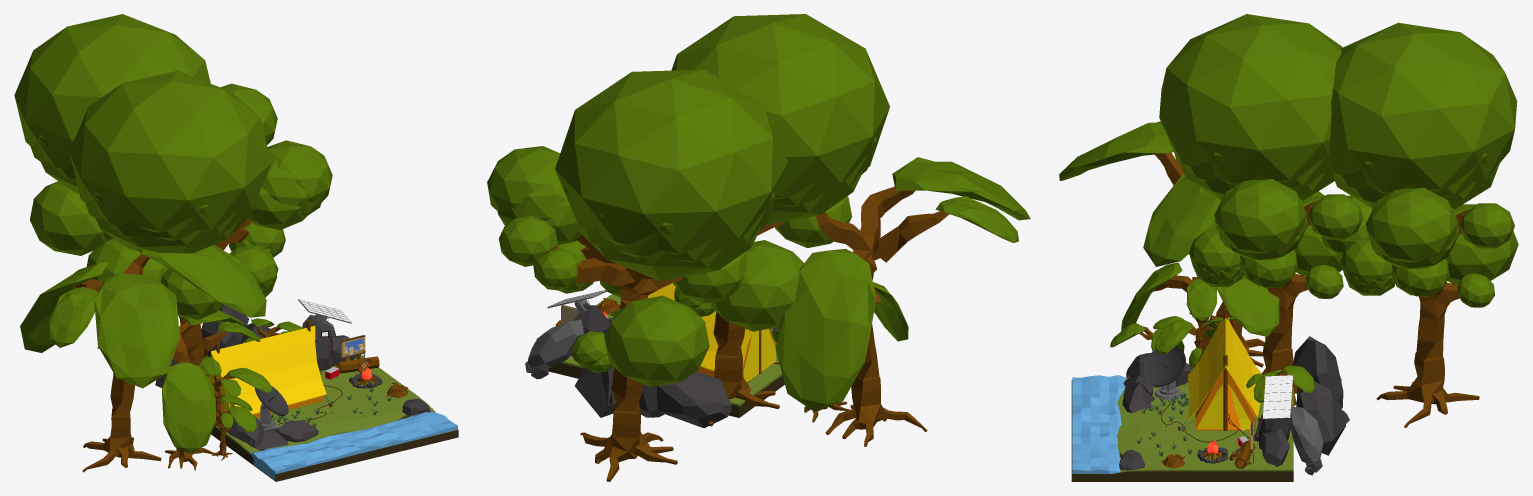
File: camp_export10.glb
3 renders of one model, left to right at view 1: azimuth 30°, elevation 25°; view 2: azimuth 150°, elevation 25°; view 3: azimuth 270°, elevation 25°, orthographic. The views are drawn at different scales.
Visible parts, largest first — view 1: Big tree leaves, Big tree leaves.001, Small Tree 2.003, Small Tree 2.002, Tent-main.001, Rock2.007, Rock2.003, Rock2.005, Rock_1.004, Small Tree 2.001, Small Tree Leaves 1, Rock2.009 (+3 smaller); view 2: Big tree leaves.001, Big tree leaves, Small Tree 2.003, Big Tree.001, Rock2.009, Big Tree, Rock.001, Small Tree 2.002, Tent-main.001, Tent-main.002, Rock2.007, Rock2.001 (+1 smaller); view 3: Big tree leaves.001, Big tree leaves, Small Tree 2.003, Rock2.007, Small Tree 2.002, Rock2.003, Big Tree.001, Rock2.009, Tent-main.001, Big Tree, Rock2.005, Rock_1.004 (+11 smaller).
Part boxes in pixels (x1,y1,x2,y2): Big tree leaves: (69, 71, 332, 319); Big tree leaves.001: (14, 14, 277, 255); Small Tree 2.003: (20, 245, 266, 472); Small Tree 2.002: (97, 310, 260, 470); Tent-main.001: (207, 326, 326, 414); Rock2.007: (214, 354, 435, 454); Rock2.003: (250, 411, 457, 480); Rock2.005: (211, 429, 458, 481); Rock_1.004: (218, 414, 318, 450); Small Tree 2.001: (212, 394, 257, 460); Small Tree Leaves 1: (197, 356, 272, 406); Rock2.009: (155, 305, 275, 387); Big tree leaves.001: (487, 69, 787, 387); Big tree leaves: (671, 14, 889, 331); Small Tree 2.003: (775, 157, 1030, 446); Big Tree.001: (553, 235, 682, 481); Rock2.009: (525, 361, 731, 427); Big Tree: (708, 222, 784, 426); Rock.001: (527, 319, 584, 368); Small Tree 2.002: (804, 282, 908, 422); Tent-main.001: (648, 283, 776, 371); Tent-main.002: (743, 329, 775, 382); Rock2.007: (561, 294, 782, 406); Rock2.001: (536, 305, 610, 356); Big tree leaves.001: (1321, 22, 1518, 307); Big tree leaves: (1159, 14, 1363, 298); Small Tree 2.003: (1059, 121, 1324, 367); Rock2.007: (1117, 377, 1293, 472); Small Tree 2.002: (1121, 262, 1279, 354); Rock2.003: (1072, 375, 1125, 473); Big Tree.001: (1376, 209, 1479, 427); Rock2.009: (1292, 336, 1349, 475); Tent-main.001: (1187, 317, 1261, 419); Big Tree: (1261, 201, 1315, 405); Rock2.005: (1071, 474, 1293, 481); Rock_1.004: (1122, 353, 1193, 413).
Bounding box in the file's own units: 15.94 × 14.9 × 16.55.
